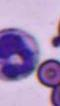N: (0, 28, 39, 80)
